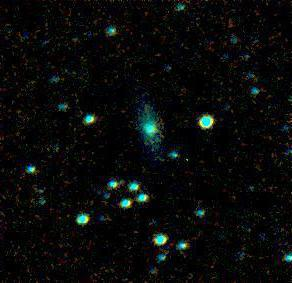star: (146, 37, 176, 67)
